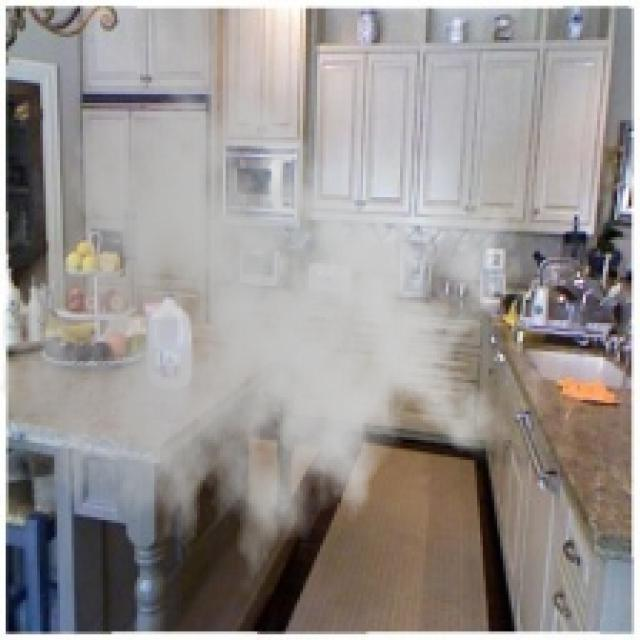Smoke: (0, 57, 526, 600)
